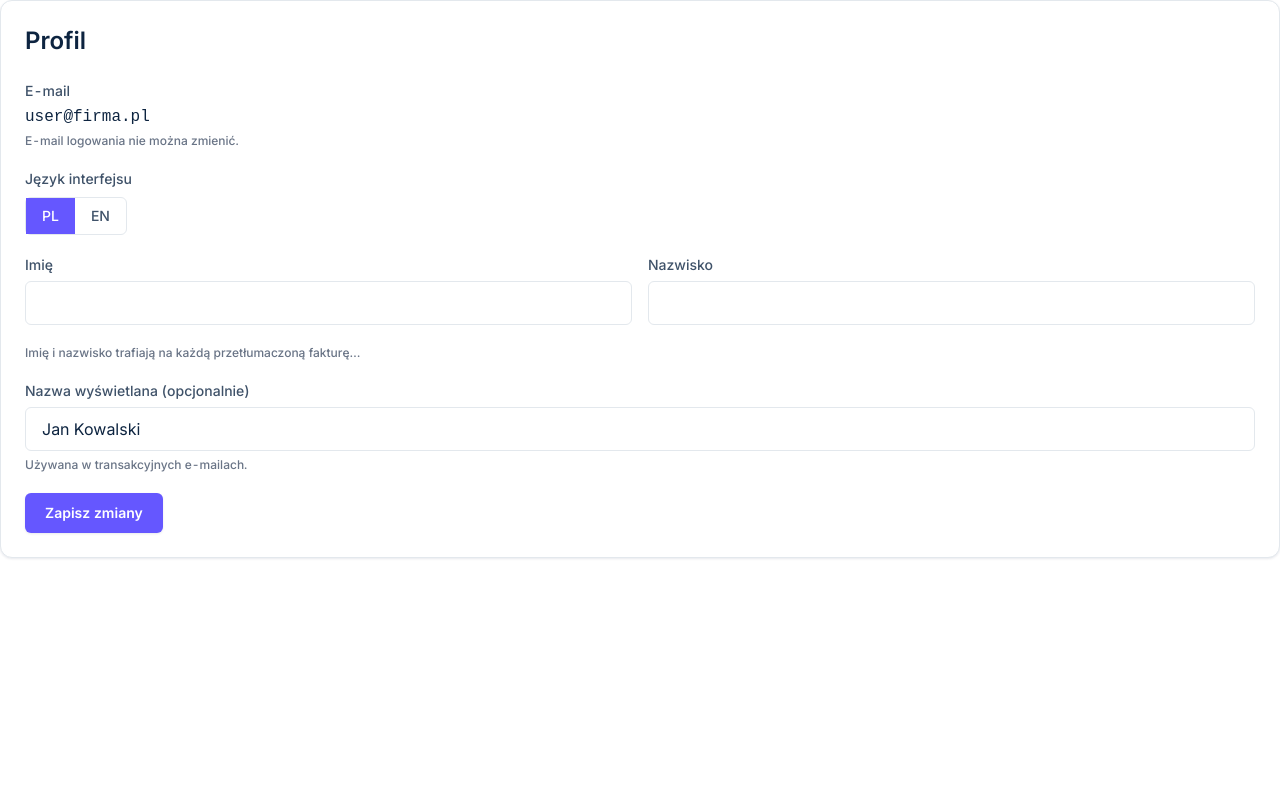
Test: <ProfileSection> › shows error message on failure
The width and height of the screenshot is (1280, 800).
Step 1. Click the button "Zapisz zmiany" → (94, 513), box [25,493,163,533]
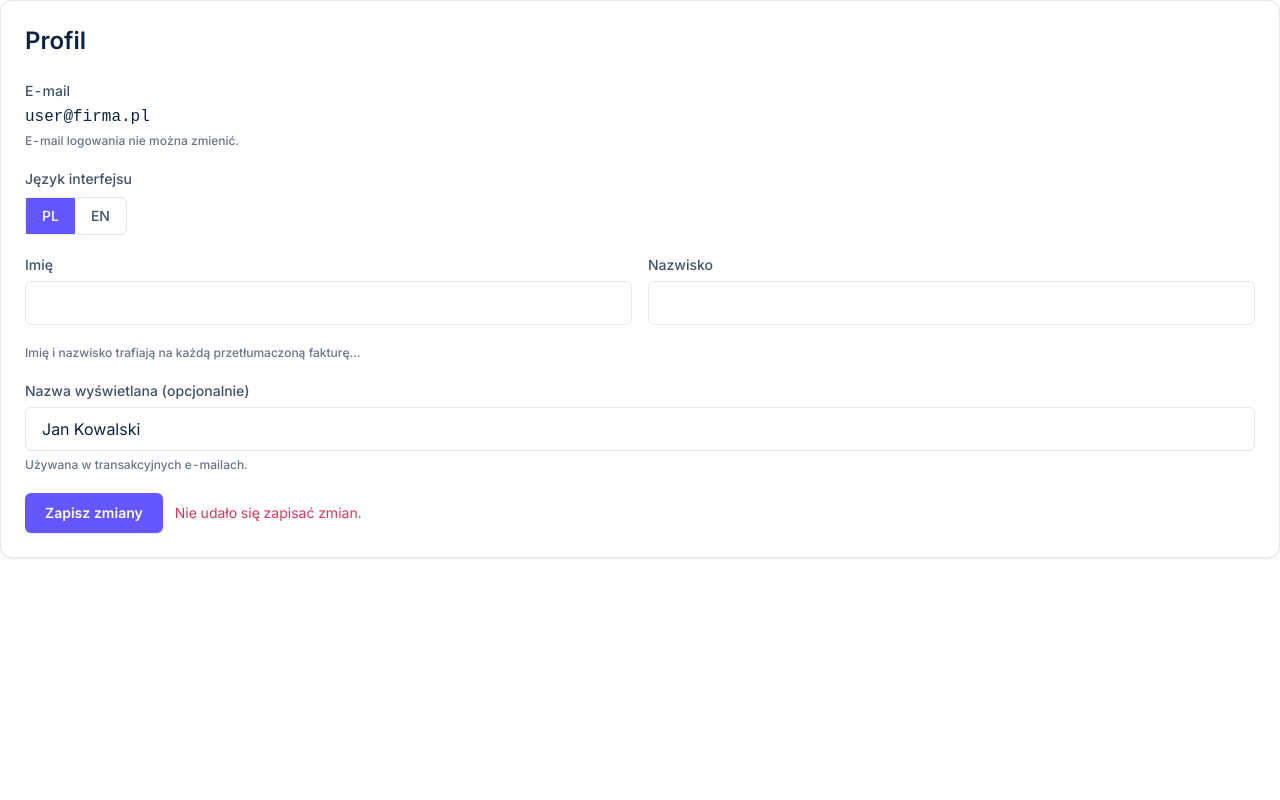
Check: the text "Nie udało się zapisać zmian." is shown, box [175,503,362,523]
